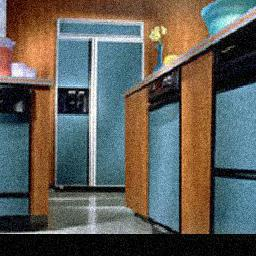Electrodomestico: (59, 22, 133, 187), (210, 19, 254, 229), (149, 62, 181, 228), (2, 82, 31, 225)
